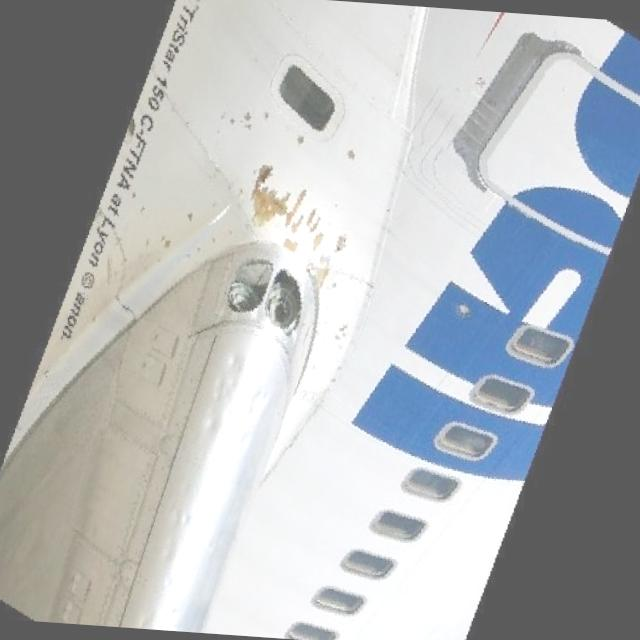dent: (131, 340, 275, 634)
